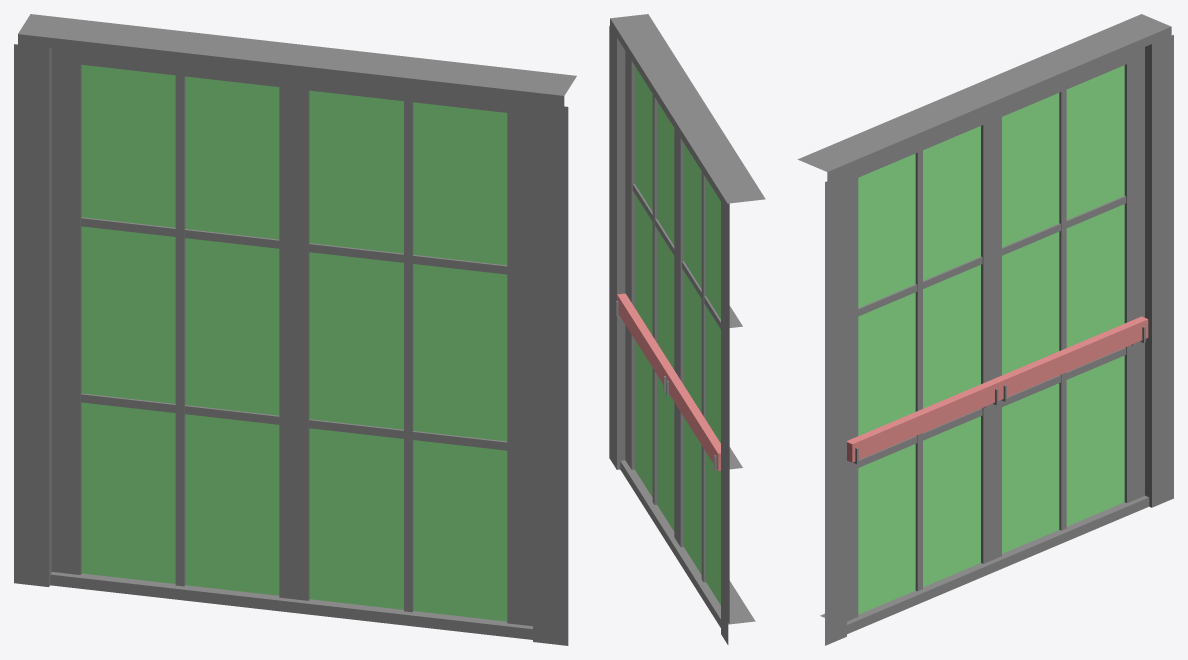
File: SM_ENV_KNVLLG03_YaguraDoor_02.gltf
The picture shows the model from 3 angles, left to right: view 1: azimuth 30°, elevation 25°; view 2: azimuth 150°, elevation 25°; view 3: azimuth 270°, elevation 25°; orthographic projection. The views are drawn at different scales.
Visible parts, largest first — view 1: SM_ENV_KNVLLG03_YaguraDoor_02; view 2: SM_ENV_KNVLLG03_YaguraDoor_02; view 3: SM_ENV_KNVLLG03_YaguraDoor_02.
Part boxes in pixels (x1,y1,x2,y2): SM_ENV_KNVLLG03_YaguraDoor_02: [14, 14, 576, 645]; SM_ENV_KNVLLG03_YaguraDoor_02: [609, 14, 765, 644]; SM_ENV_KNVLLG03_YaguraDoor_02: [797, 14, 1173, 645].
Bounding box in the file's own units: 5.55 × 7.65 × 5.55.
